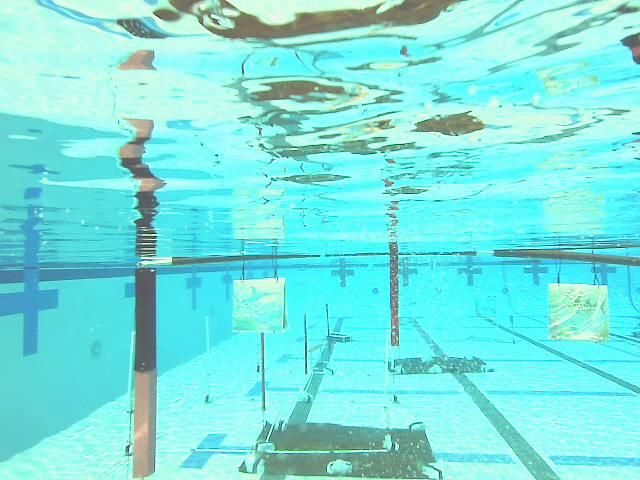black_poster: (326, 304, 330, 349), (304, 314, 307, 373)
divider: (390, 250, 398, 345)
left_gate_poster: (132, 268, 156, 477)
shark: (234, 278, 286, 333)
swordfish: (548, 284, 608, 341)
white_poster: (124, 330, 133, 460), (205, 316, 210, 401)
